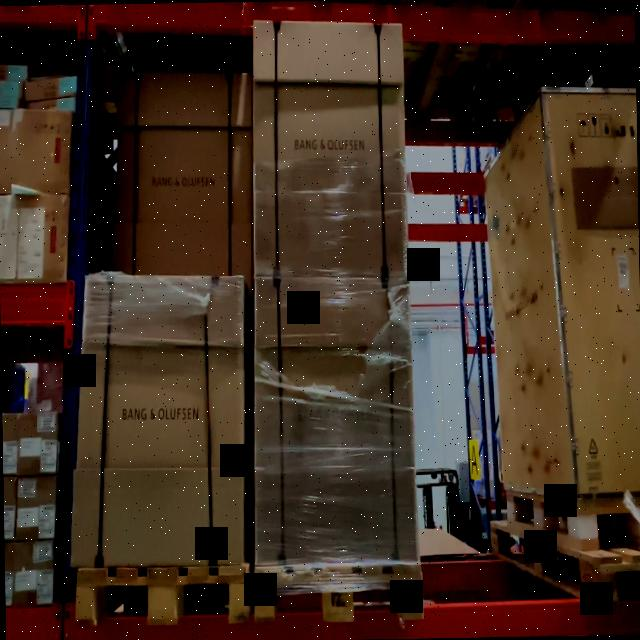box: (258, 282, 416, 559), (89, 277, 242, 562), (255, 17, 406, 274), (120, 68, 250, 268)
